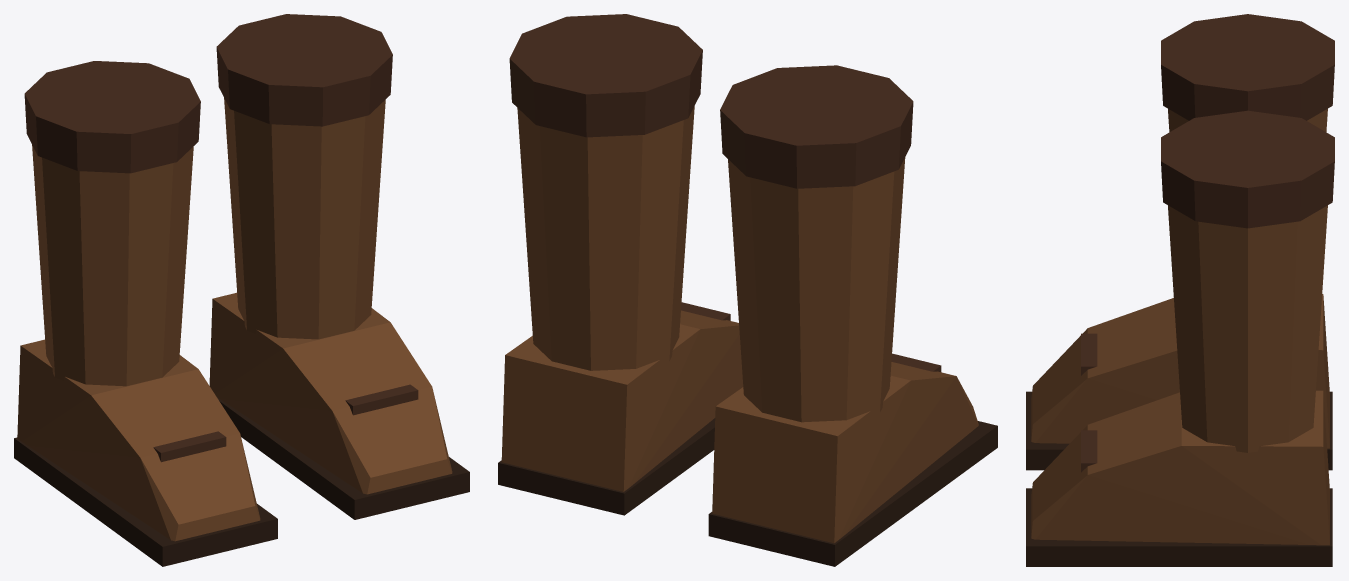
File: drop_boots_hard.glb
The picture shows the model from 3 angles, left to right: view 1: azimuth 30°, elevation 25°; view 2: azimuth 150°, elevation 25°; view 3: azimuth 270°, elevation 25°; orthographic projection. The views are drawn at different scales.
Parts seen in each view (by area): view 1: drop_boots_hard; view 2: drop_boots_hard; view 3: drop_boots_hard.
Part boxes in pixels (box(x1,y1,x2,y2)): drop_boots_hard: box(14, 14, 469, 566); drop_boots_hard: box(498, 14, 997, 566); drop_boots_hard: box(1026, 14, 1334, 566).
Size of the model in its own units: 0.216 by 0.225 by 0.1621.
